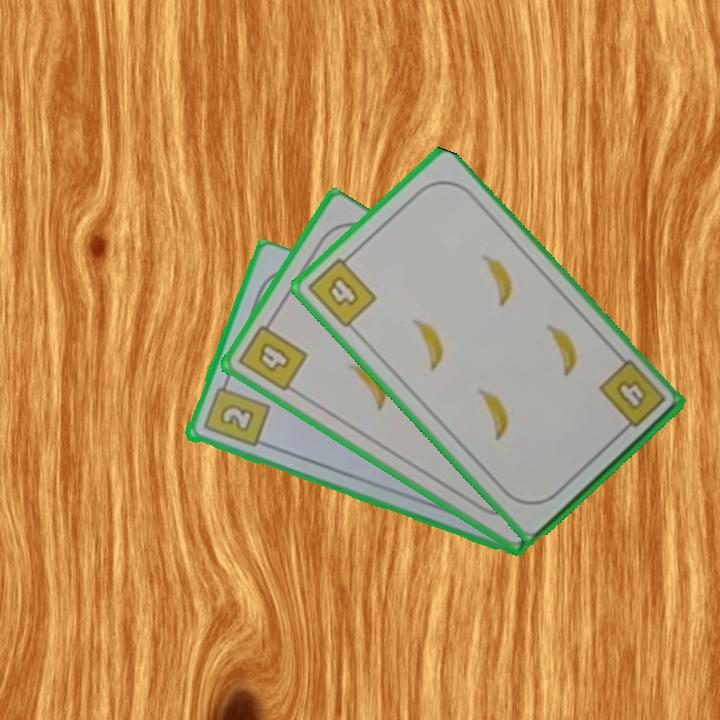2b: (199, 376, 272, 450)
4b: (234, 314, 311, 395), (303, 249, 379, 331), (594, 356, 669, 438)
